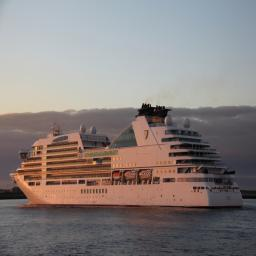cruises: (9, 103, 245, 214)
